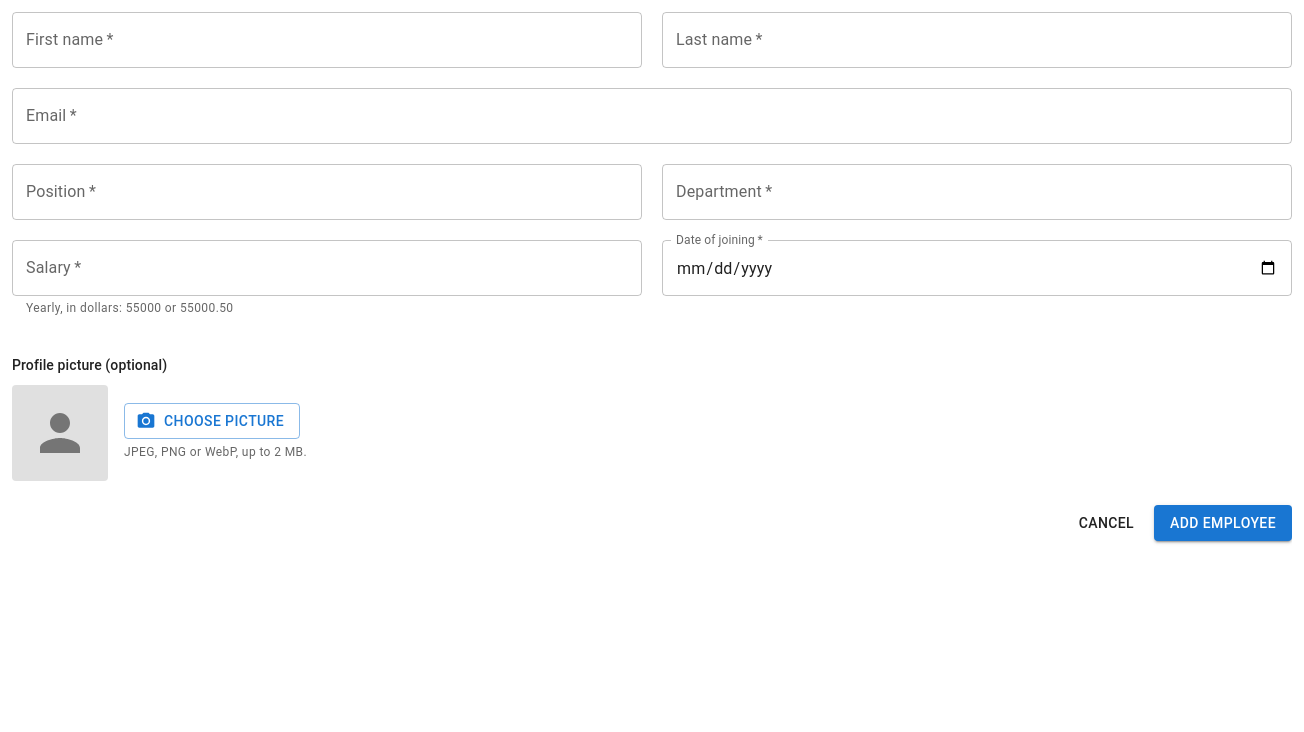
Test: EmployeeForm: validation before sending › shows every missing value, sends nothing, and focuses the first problem
Click the button "Add employee": [1223, 523] box [1154,505,1292,541]
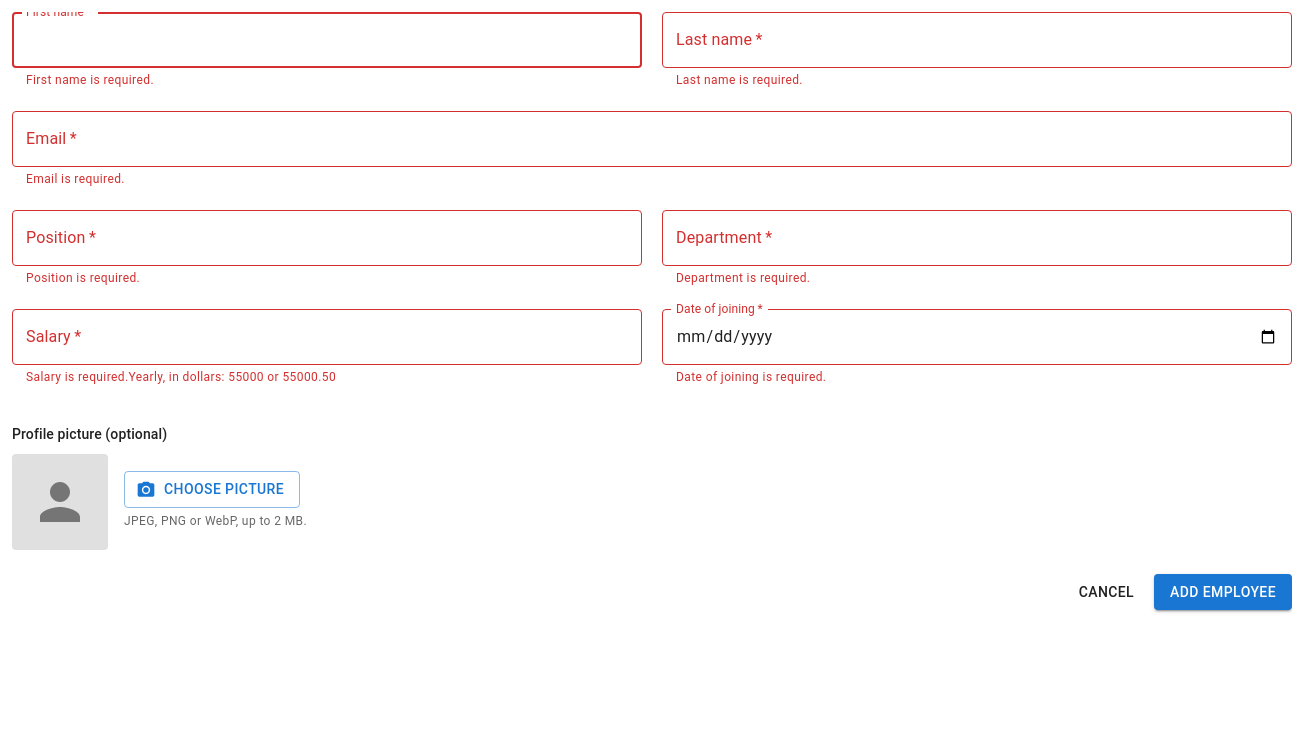
Expected: the text "First name is required." is shown, [26,73,154,87]
Expected: the text "Last name is required." is shown, [676,73,803,87]
Expected: the text "Email is required." is shown, [26,172,125,186]
